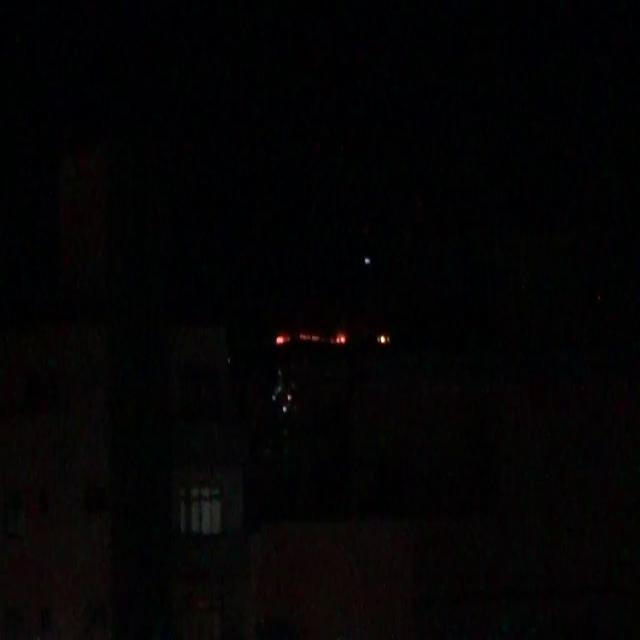Fire: (378, 332, 391, 347), (334, 332, 344, 345), (276, 334, 288, 344)
